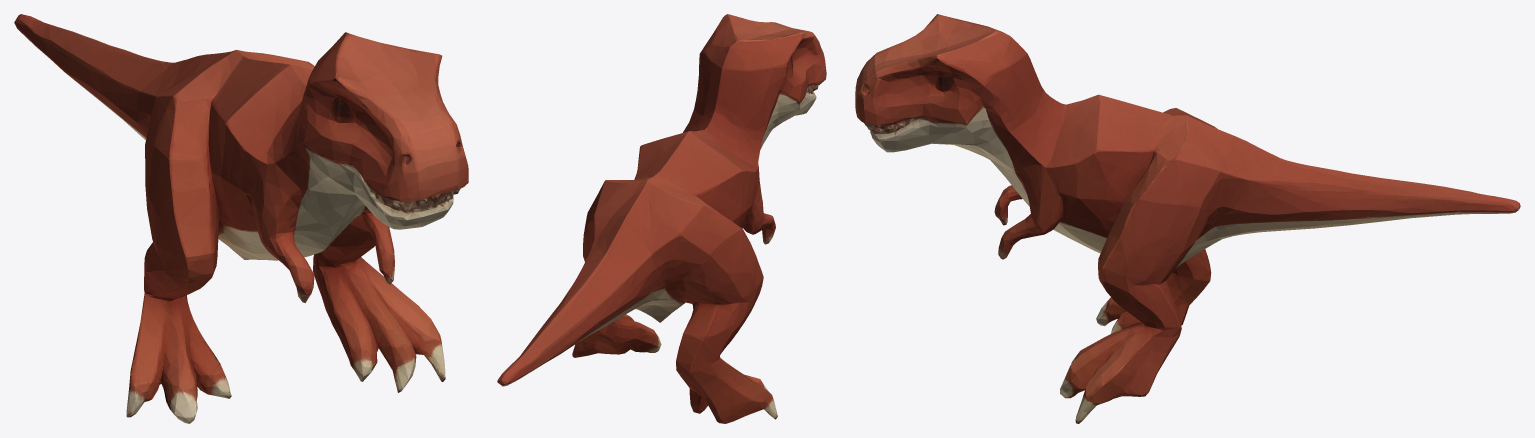
The model's file is tyrannosaurus.glb.
3 views of the same model, side by side, from view 1: azimuth 30°, elevation 25°; view 2: azimuth 150°, elevation 25°; view 3: azimuth 270°, elevation 25° (orthographic). The views are drawn at different scales.
Parts seen in each view (by area): view 1: geometry_0; view 2: geometry_0; view 3: geometry_0.
Boxes of the visible parts, x1,y1,x2,y2 form: geometry_0: (14, 14, 468, 423); geometry_0: (497, 14, 826, 423); geometry_0: (855, 14, 1520, 423).
Bounding box in the file's own units: 0.3998 × 0.5589 × 0.9995.
Materials: 1 (1 with a texture image).
